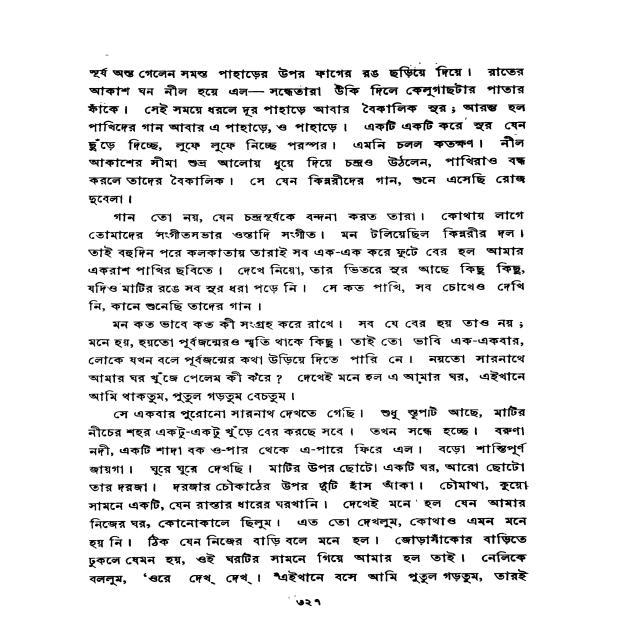page number: (289, 594, 327, 612)
paragraph: (82, 404, 531, 588), (82, 62, 531, 208), (83, 209, 530, 315), (82, 316, 530, 404)
